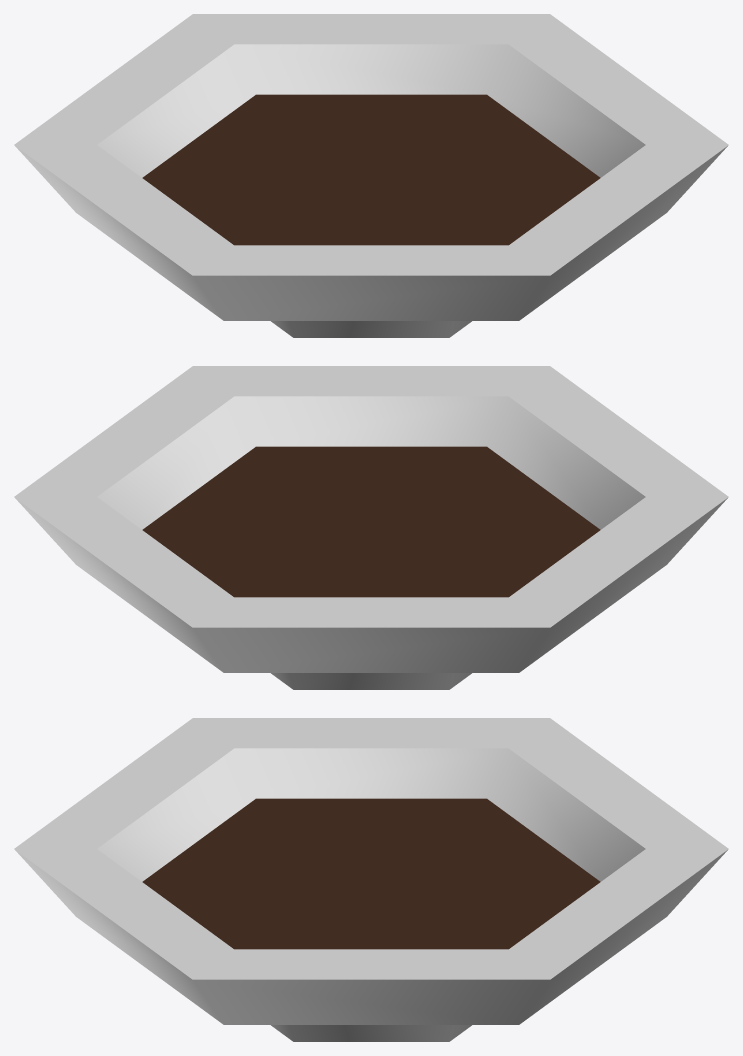
The model's file is Soy.glb.
The picture shows the model from 3 angles, top to bottom: view 1: azimuth 30°, elevation 25°; view 2: azimuth 150°, elevation 25°; view 3: azimuth 270°, elevation 25°; orthographic projection.
Visible parts, largest first — view 1: soy; view 2: soy; view 3: soy.
Part boxes in pixels (x1,y1,x2,y2): soy: (14,14,728,337); soy: (14,366,728,689); soy: (14,718,728,1041).
Size of the model in its own units: 0.1653 by 0.04 by 0.1909.
